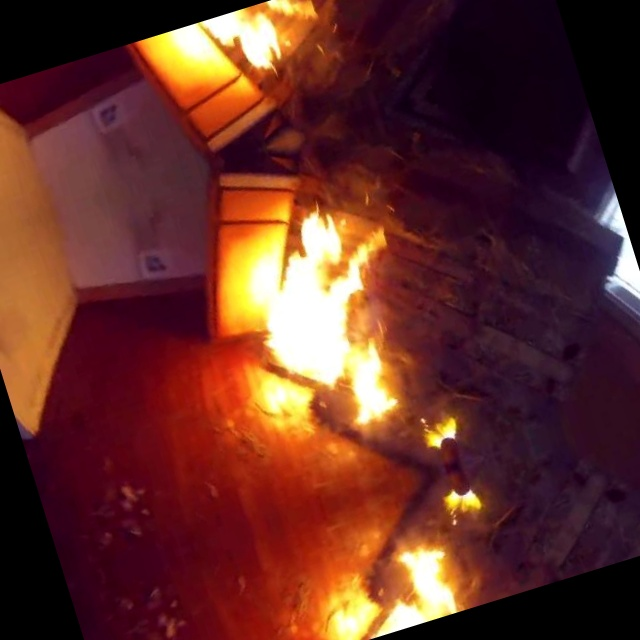fire: (201, 152, 481, 531)
